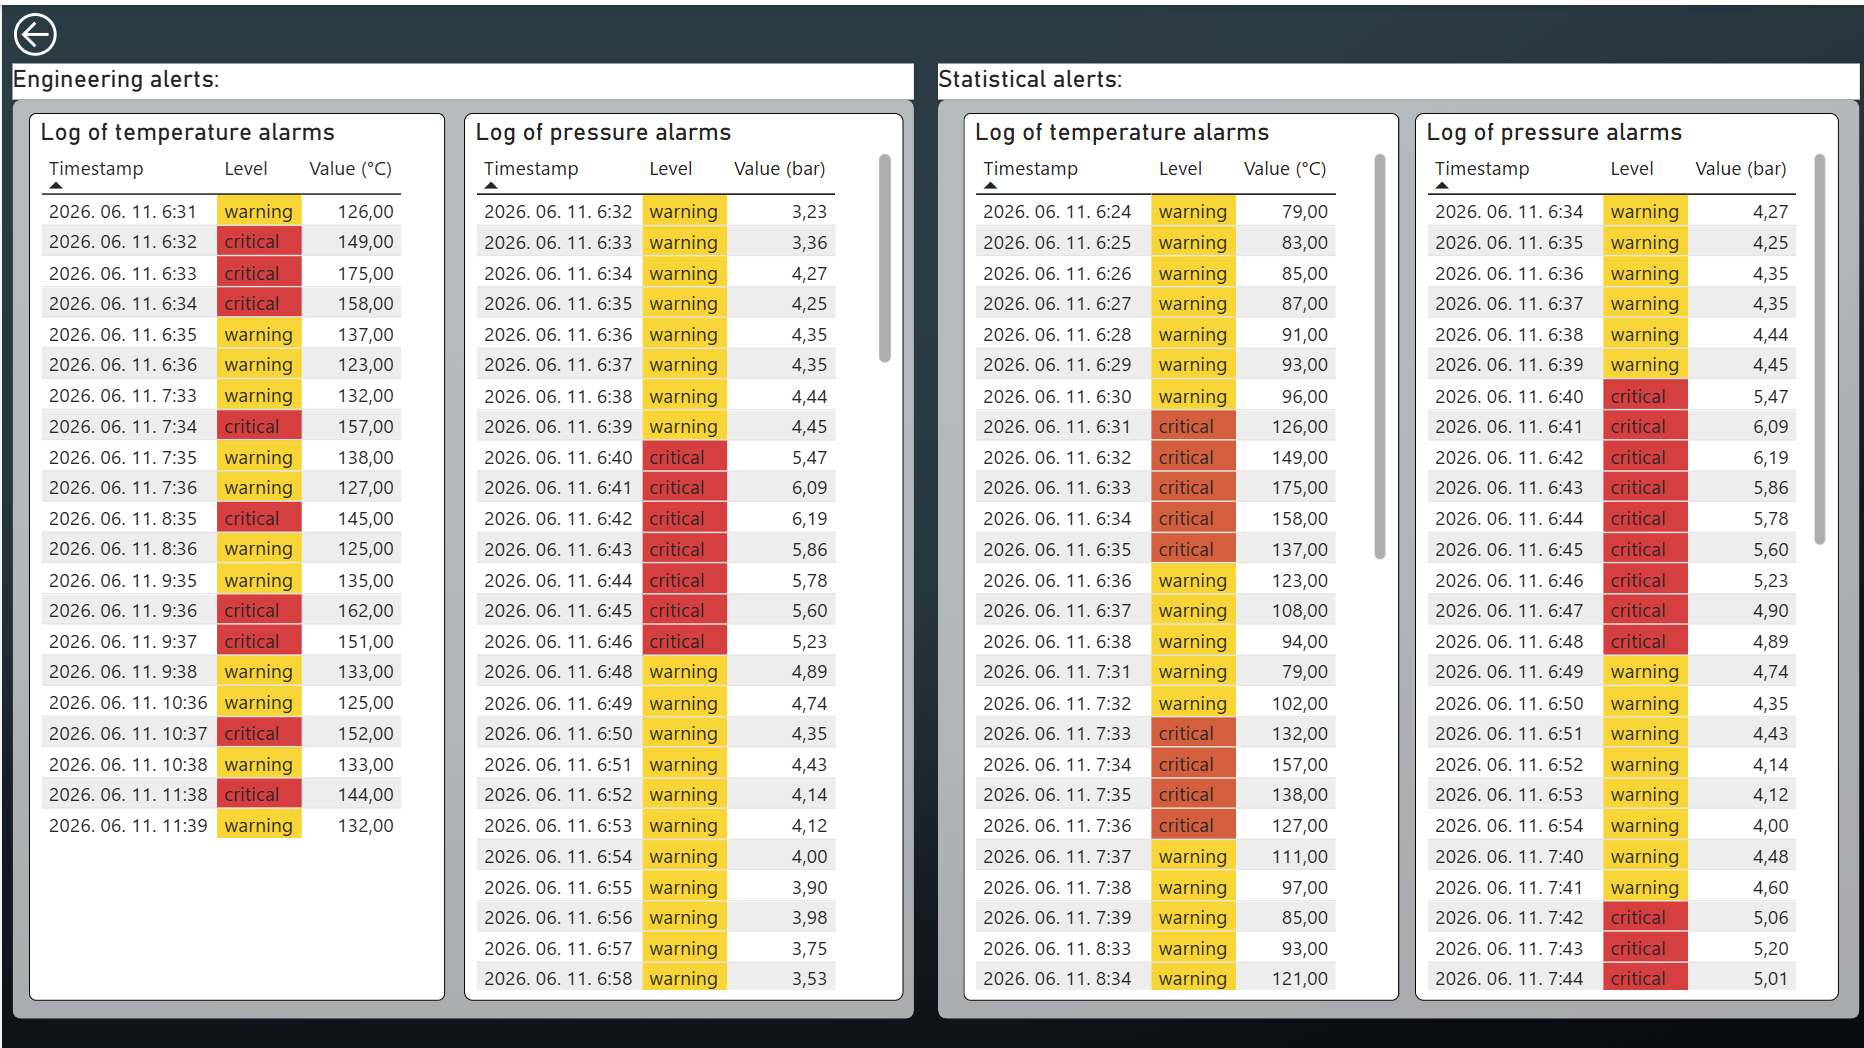

What the dashboard file says about the page in this screenshot:
{"tool":"powerbi","page":{"name":"Alerts_log","canvas":[1280,720],"ordinal":2},"visuals":[{"type":"shape","title":"Engineering alerts:","box":[7.4,40.3,616.8,653.3],"z":0},{"type":"tableEx","title":"Log of temperature alarms","fields":{"Values":["engineering_alerts.timestamp","engineering_alerts.level","Sum(engineering_alerts.value)"]},"box":[18,73.7,284.9,607.5],"z":1000},{"type":"tableEx","title":"Log of pressure alarms","fields":{"Values":["engineering_alerts.timestamp","engineering_alerts.level","Sum(engineering_alerts.value)"]},"box":[315.8,73.7,301,607.5],"z":2000},{"type":"shape","title":"Statistical alerts:","box":[640.3,40.3,630.4,653.3],"z":3000},{"type":"tableEx","title":"Log of temperature alarms","fields":{"Values":["statistical_alerts.timestamp","statistical_alerts.level","statistical_alerts.value"]},"box":[657.7,73.7,297.9,607.5],"z":4000},{"type":"tableEx","title":"Log of pressure alarms","fields":{"Values":["statistical_alerts.timestamp","statistical_alerts.level","statistical_alerts.value"]},"box":[966.7,73.7,289.8,607.5],"z":5000},{"type":"actionButton","box":[0,0,45.2,40.3],"z":6000}]}

Visuals, with their boxes in screenshot pixels (x1, y1, x2, y2), scaled from the page's 1280x720 canvas onto the 1864x1048 screenshot:
"Engineering alerts:" shape: {"left": 11, "top": 59, "right": 909, "bottom": 1010}
"Log of temperature alarms" tableEx: {"left": 26, "top": 107, "right": 441, "bottom": 992}
"Log of pressure alarms" tableEx: {"left": 460, "top": 107, "right": 898, "bottom": 992}
"Statistical alerts:" shape: {"left": 932, "top": 59, "right": 1850, "bottom": 1010}
"Log of temperature alarms" tableEx: {"left": 958, "top": 107, "right": 1392, "bottom": 992}
"Log of pressure alarms" tableEx: {"left": 1408, "top": 107, "right": 1830, "bottom": 992}
actionButton: {"left": 0, "top": 0, "right": 66, "bottom": 59}
